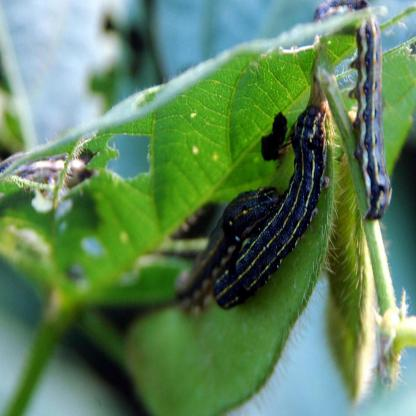armyworm: (211, 97, 336, 325), (175, 184, 282, 314), (354, 12, 394, 229)
